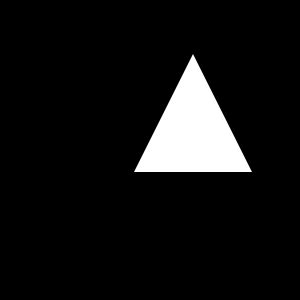triangle: (134, 54, 252, 172)
